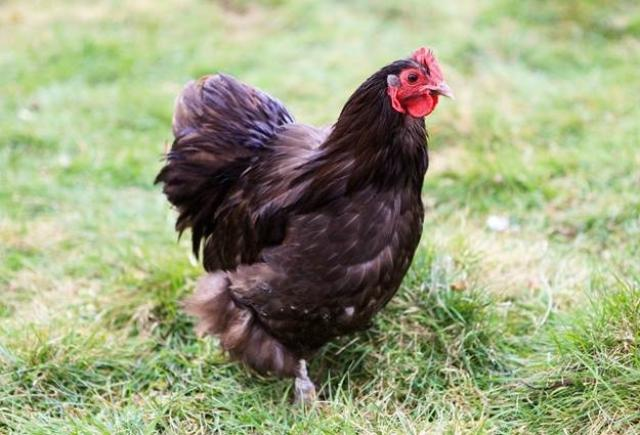Chicken: (152, 46, 455, 401)
